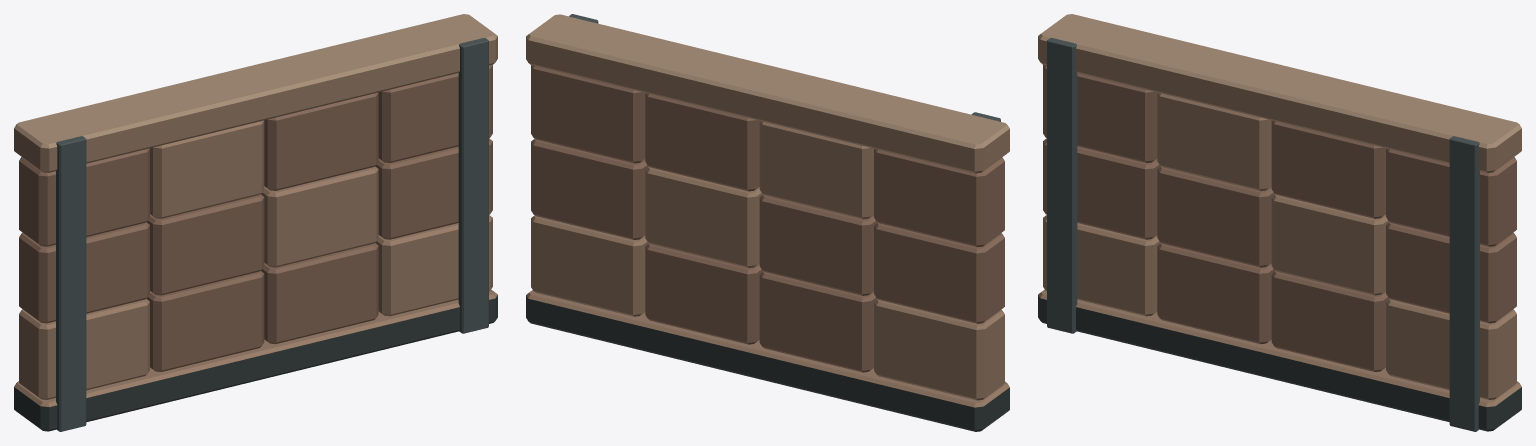
Rendered from platform-edge.glb.
The picture shows the model from 3 angles, left to right: view 1: azimuth 30°, elevation 25°; view 2: azimuth 150°, elevation 25°; view 3: azimuth 330°, elevation 25°; orthographic projection.
Parts seen in each view (by area): view 1: platform-edge__body; view 2: platform-edge__body; view 3: platform-edge__body.
Boxes of the visible parts, box(x1,y1,x2,y2) form: platform-edge__body: box(14, 14, 497, 431); platform-edge__body: box(526, 14, 1009, 431); platform-edge__body: box(1038, 14, 1521, 431).
Size of the model in its own units: 2 by 1.2 by 0.2675.
